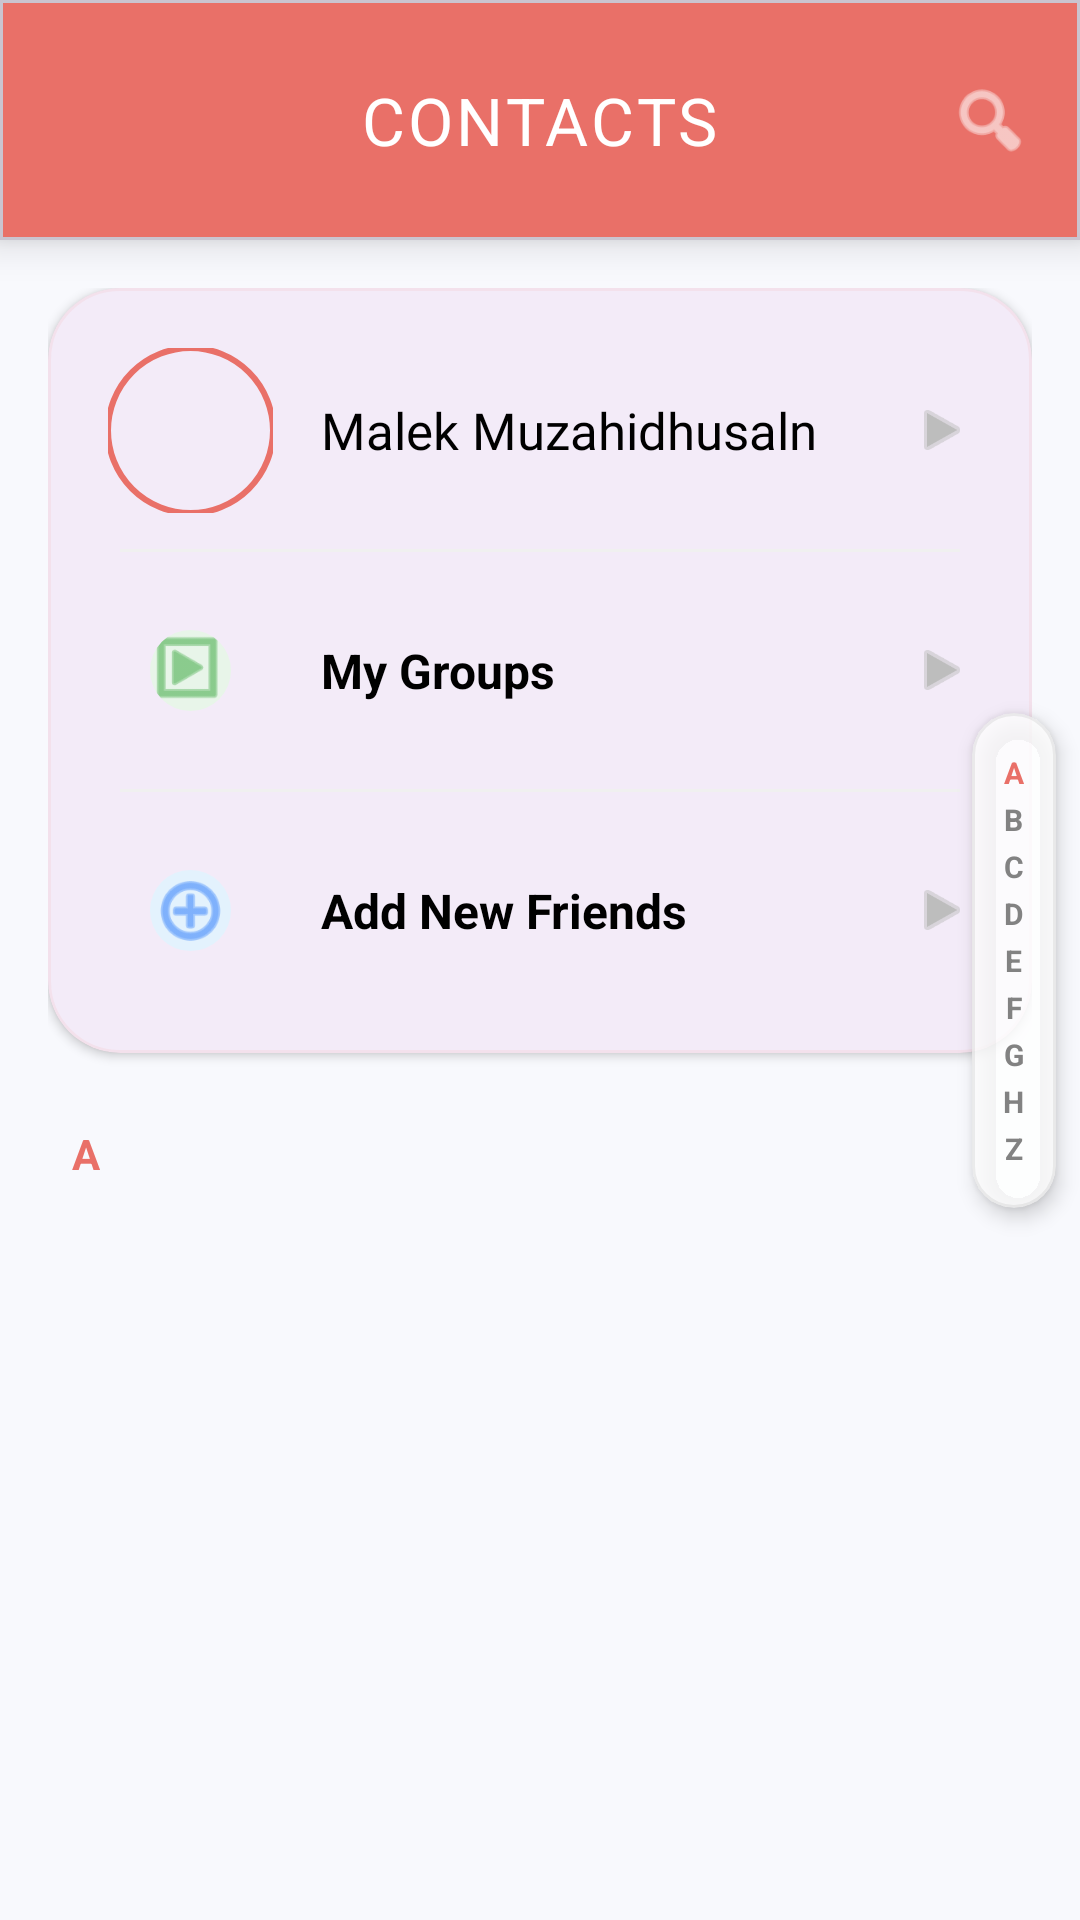

Named icons in this screenshot (1080 × 1920) and their centers, [x,y]:
play: [942,430], [942,670], [942,910]
search: [990,120]
slideshow: [187,667]
